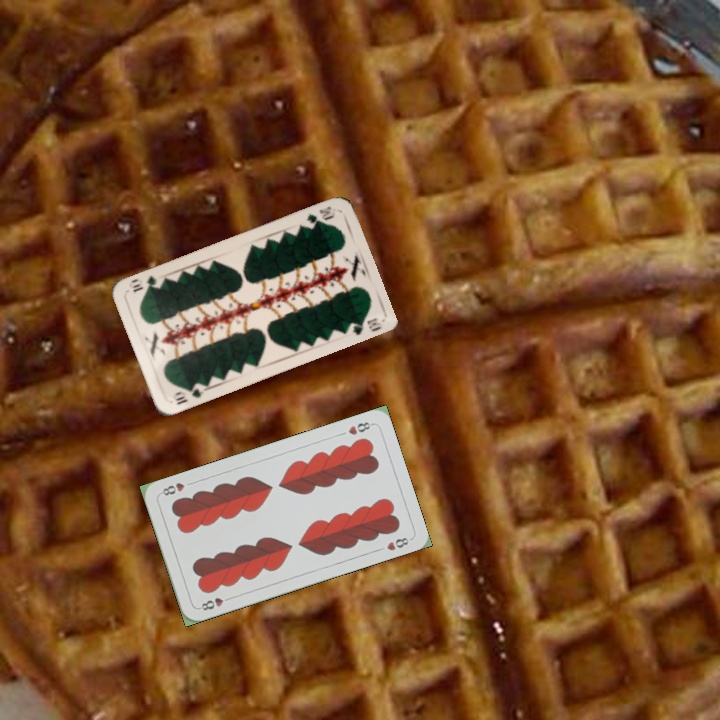G10: (171, 382, 207, 407), (302, 202, 338, 227)
H8: (195, 593, 234, 613), (344, 418, 375, 437)
